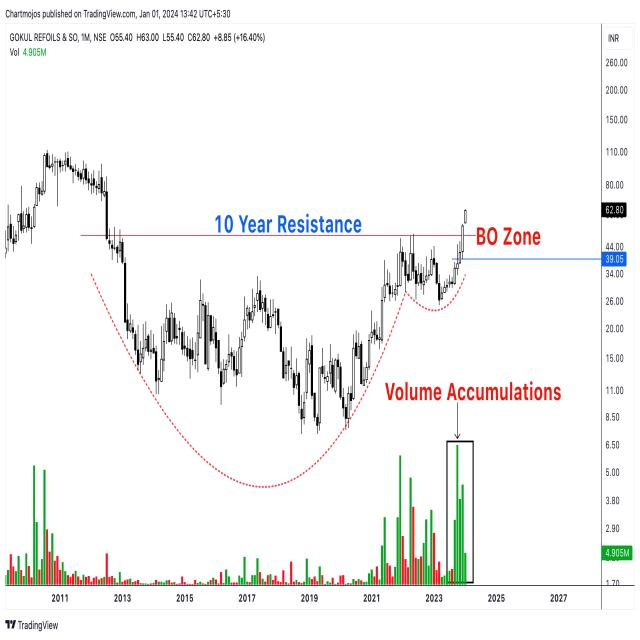Cup-and-handle: (111, 232, 486, 448)
